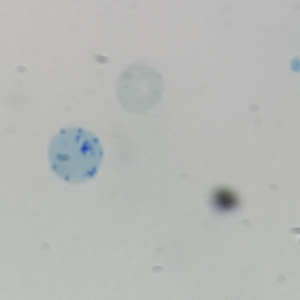aggregate reticulocyte: (45, 125, 106, 185)
erythrocyte: (113, 62, 168, 116)
